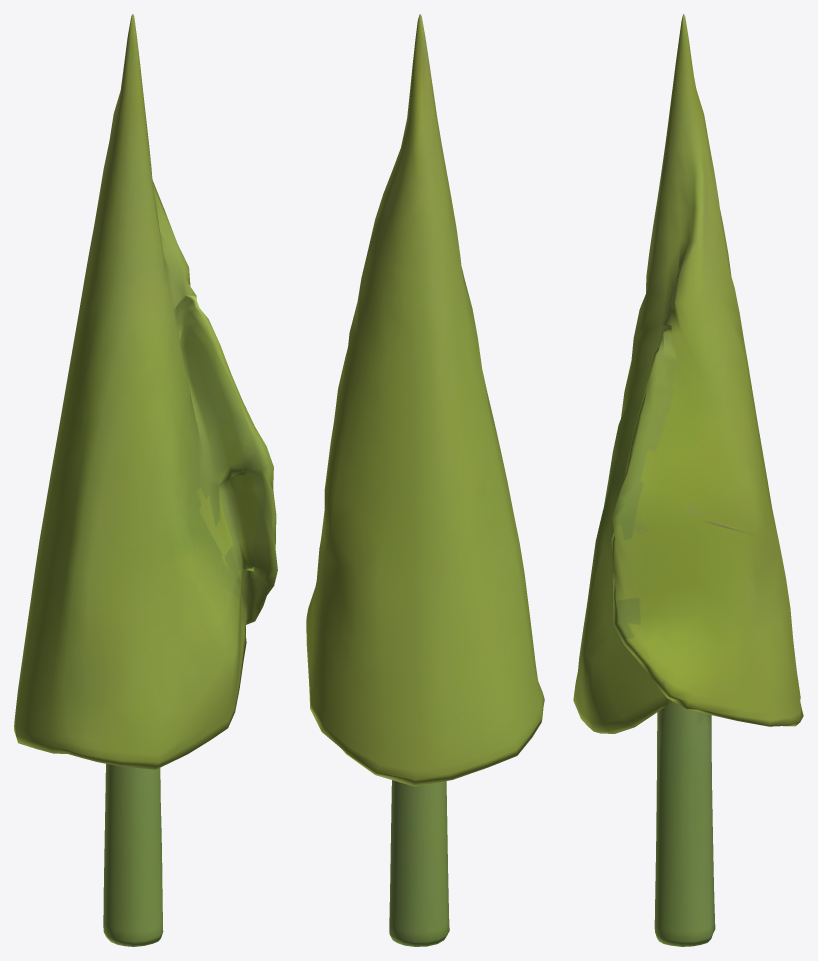
Rendered from monstera_bud_furled.glb.
3 views of the same model, side by side, from view 1: azimuth 30°, elevation 25°; view 2: azimuth 150°, elevation 25°; view 3: azimuth 270°, elevation 25° (orthographic).
Parts seen in each view (by area): view 1: tripo_node_3fb4ca7c-d7d9-47ab-bced-875c749a6aaf; view 2: tripo_node_3fb4ca7c-d7d9-47ab-bced-875c749a6aaf; view 3: tripo_node_3fb4ca7c-d7d9-47ab-bced-875c749a6aaf.
Part boxes in pixels (x1,y1,x2,y2): tripo_node_3fb4ca7c-d7d9-47ab-bced-875c749a6aaf: (14, 14, 277, 946); tripo_node_3fb4ca7c-d7d9-47ab-bced-875c749a6aaf: (306, 14, 544, 946); tripo_node_3fb4ca7c-d7d9-47ab-bced-875c749a6aaf: (573, 14, 803, 946).
Bounding box in the file's own units: 0.2516 × 0.9955 × 0.2255.
1 material, 1 textured.
